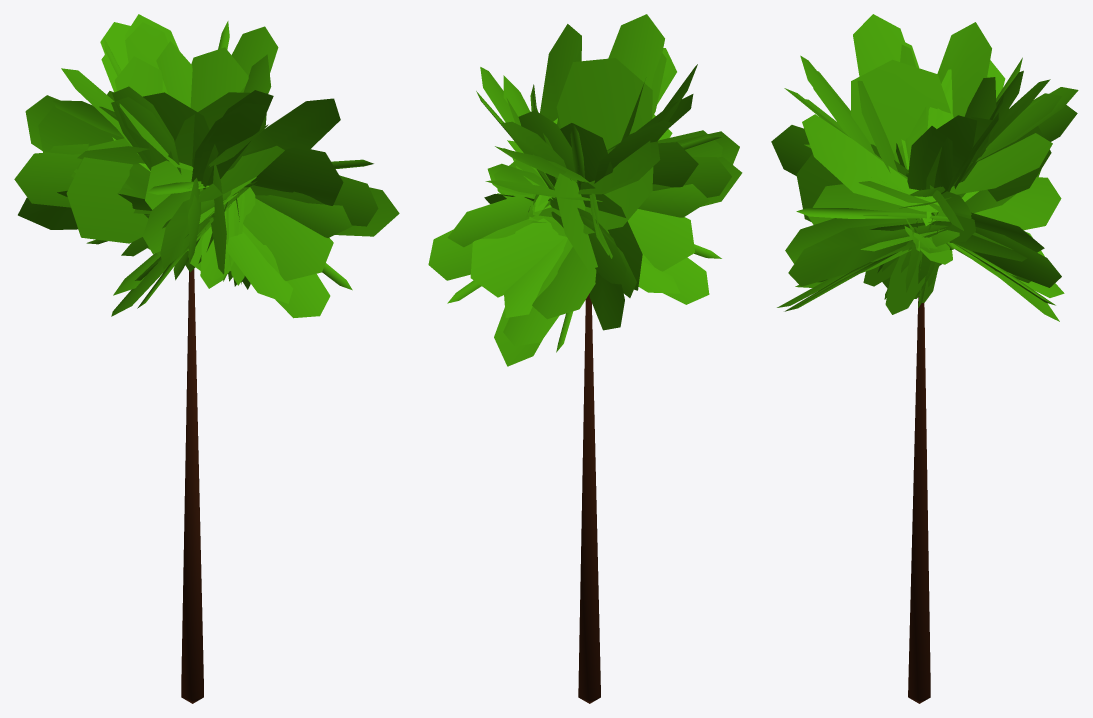
File: Tree.obj
3 views of the same model, side by side, from view 1: azimuth 30°, elevation 25°; view 2: azimuth 150°, elevation 25°; view 3: azimuth 270°, elevation 25° (orthographic).
Visible parts, largest first — view 1: cone1_Petals2, cone1_Bark; view 2: cone1_Petals2, cone1_Bark; view 3: cone1_Petals2, cone1_Bark.
Part boxes in pixels (left/top/right/bottom): cone1_Petals2: left=14, top=14, right=399, bottom=318; cone1_Bark: left=181, top=269, right=203, bottom=703; cone1_Petals2: left=428, top=14, right=742, bottom=366; cone1_Bark: left=578, top=293, right=600, bottom=703; cone1_Petals2: left=771, top=14, right=1078, bottom=321; cone1_Bark: left=908, top=296, right=930, bottom=703.
Size of the model in its own units: 0.4607 by 1.14 by 0.4894.
